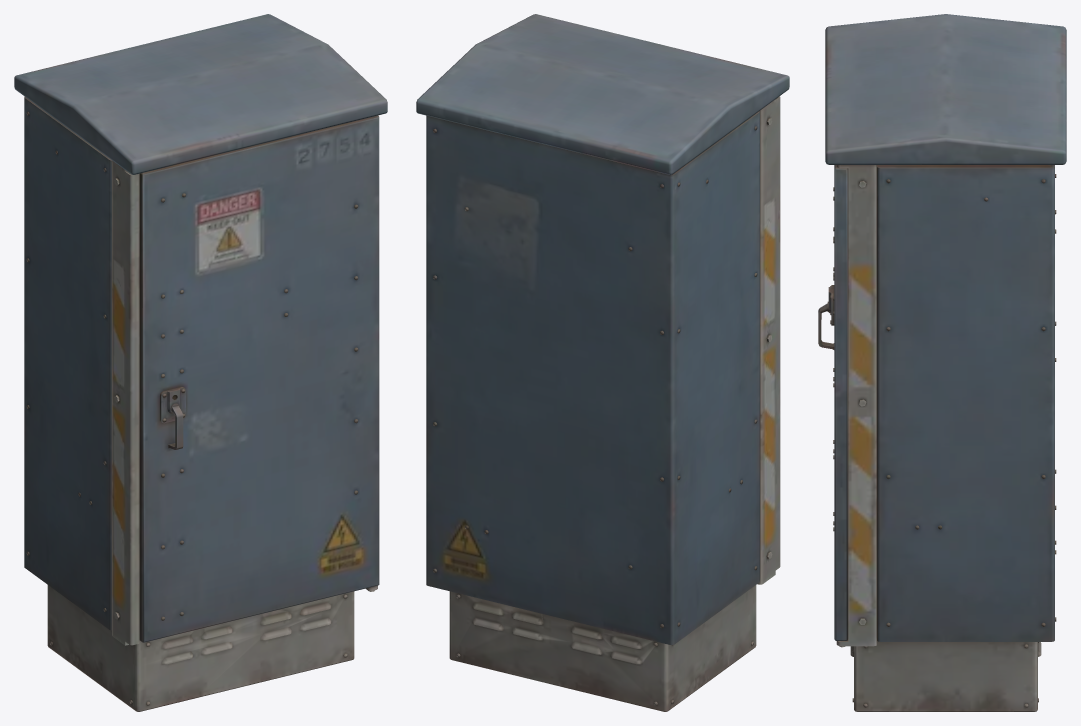
Rendered from utility_box_01.glb.
The picture shows the model from 3 angles, left to right: view 1: azimuth 30°, elevation 25°; view 2: azimuth 150°, elevation 25°; view 3: azimuth 270°, elevation 25°; orthographic projection.
Parts seen in each view (by area): view 1: utility_box_01_box; view 2: utility_box_01_box; view 3: utility_box_01_box.
Part boxes in pixels (x1=…): utility_box_01_box: x1=14, y1=14, x2=387, y2=711; utility_box_01_box: x1=416, y1=14, x2=789, y2=711; utility_box_01_box: x1=818, y1=14, x2=1066, y2=711.
Size of the model in its own units: 0.52 by 1.12 by 0.4319.
1 material, 1 textured.
